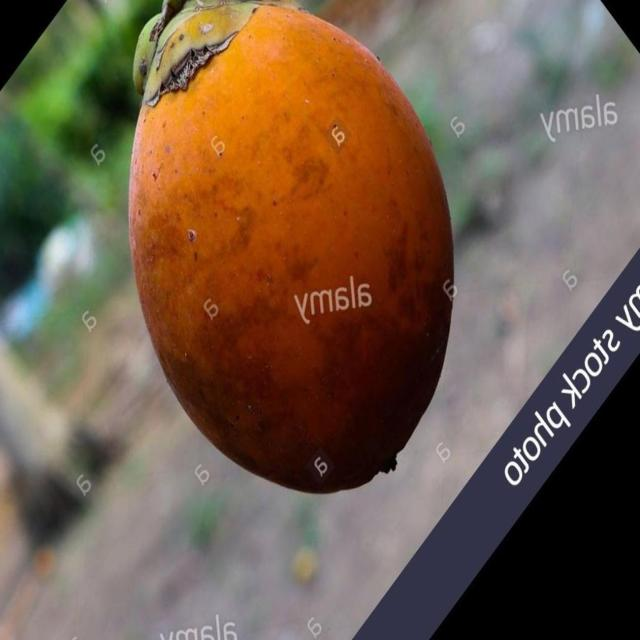good: (127, 0, 455, 497)
